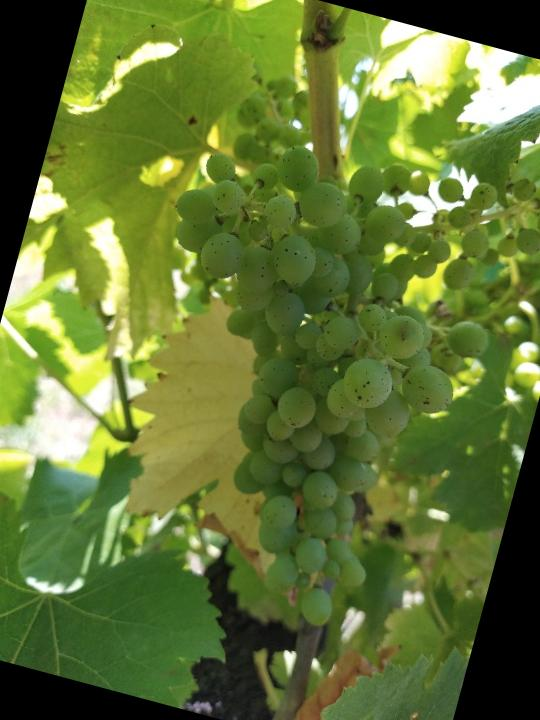grape: (77, 86, 540, 669)
